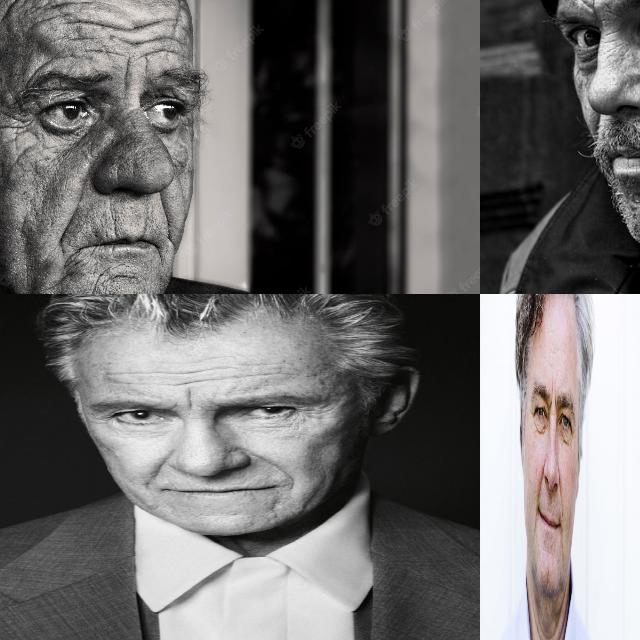bunny_line: (603, 27, 619, 53)
chin: (84, 264, 134, 292)
crows_feet: (2, 105, 36, 143), (293, 403, 329, 422), (86, 410, 116, 429), (530, 408, 535, 422)
forehead: (119, 16, 185, 56), (49, 0, 108, 36), (239, 362, 301, 381), (103, 368, 162, 385), (168, 366, 216, 386), (3, 0, 35, 24), (542, 351, 552, 369), (554, 344, 564, 361)
frown_line: (118, 57, 136, 95), (177, 389, 200, 409), (587, 0, 601, 22), (550, 382, 553, 410), (554, 383, 557, 410)
gummy_smile: (58, 174, 88, 242), (154, 192, 178, 242), (251, 448, 289, 476), (145, 452, 174, 479)
sad_smile: (54, 252, 82, 292)
